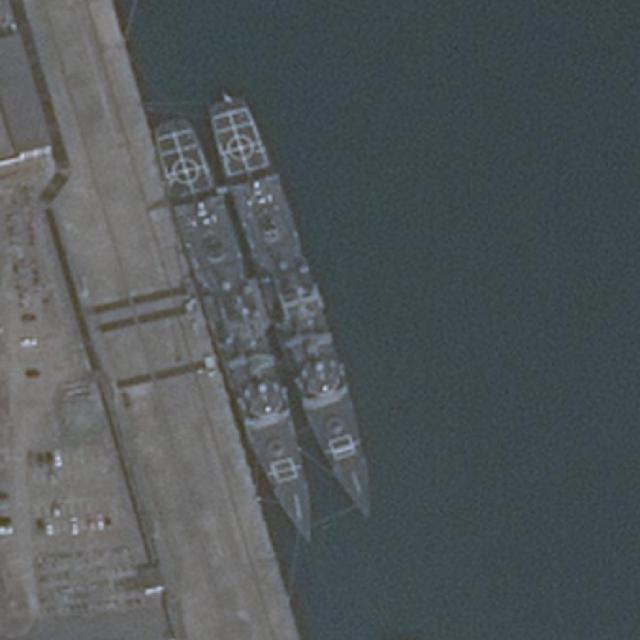Frigate: (202, 94, 387, 529), (152, 116, 332, 551)
